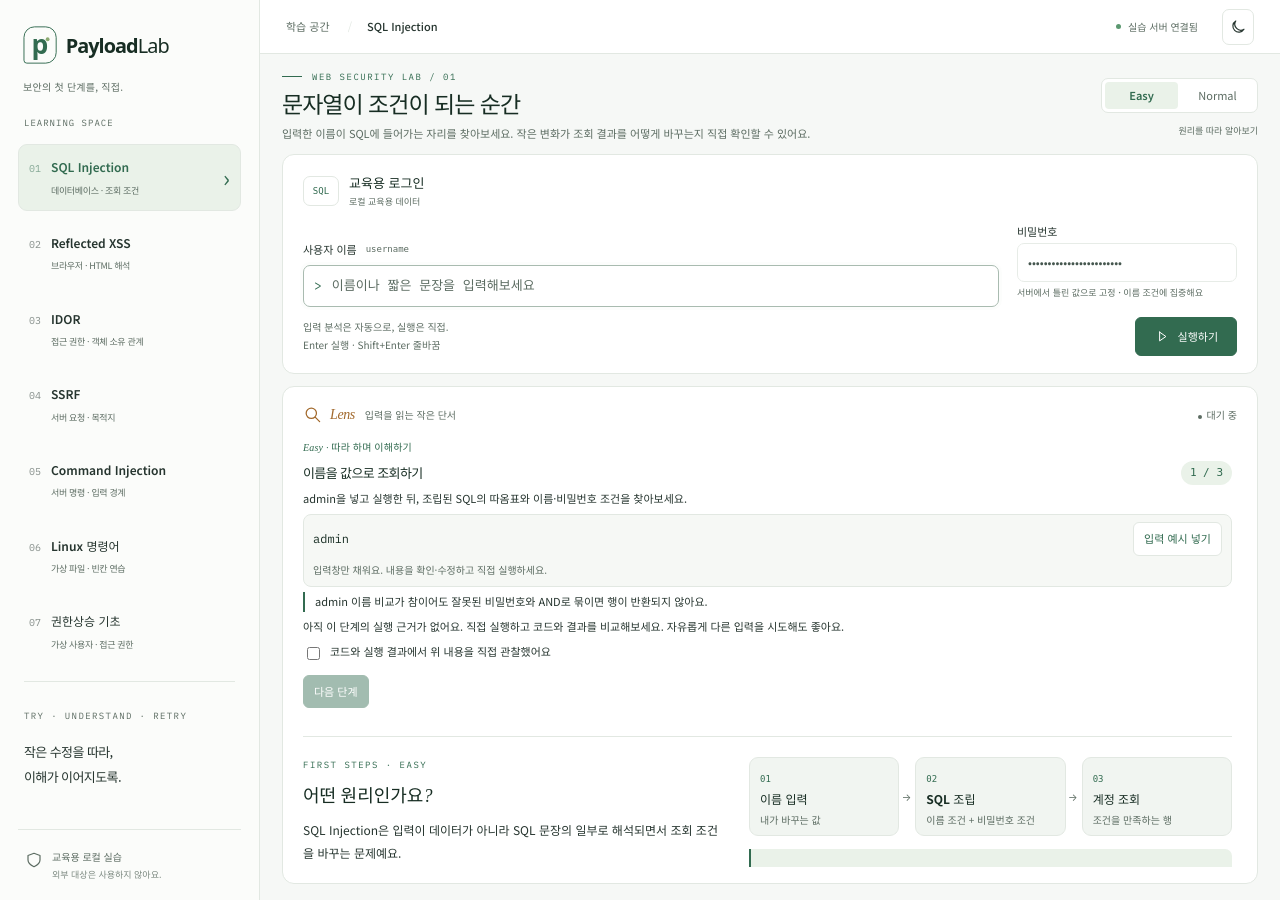
Scenario: learning workspace › rejects a late response after switching labs
The image size is (1280, 900).
Expected: the button "실행하기" is enabled, [1134,317,1237,356]
In the text box labelled "사용자 이름": (660, 286) [332,274,988,298], type "abc"
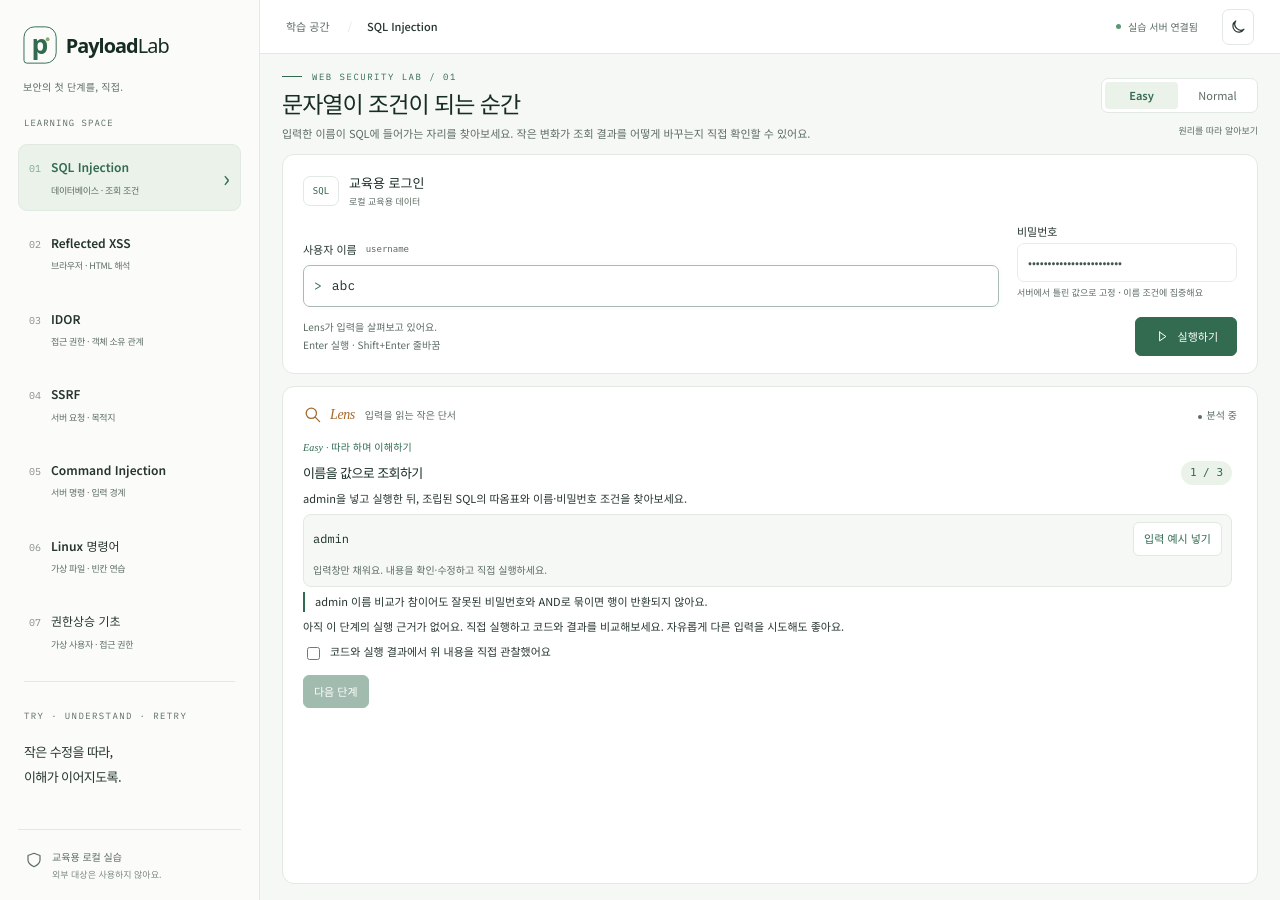
Click the button "실행하기": click(1186, 336) [1134,317,1237,356]
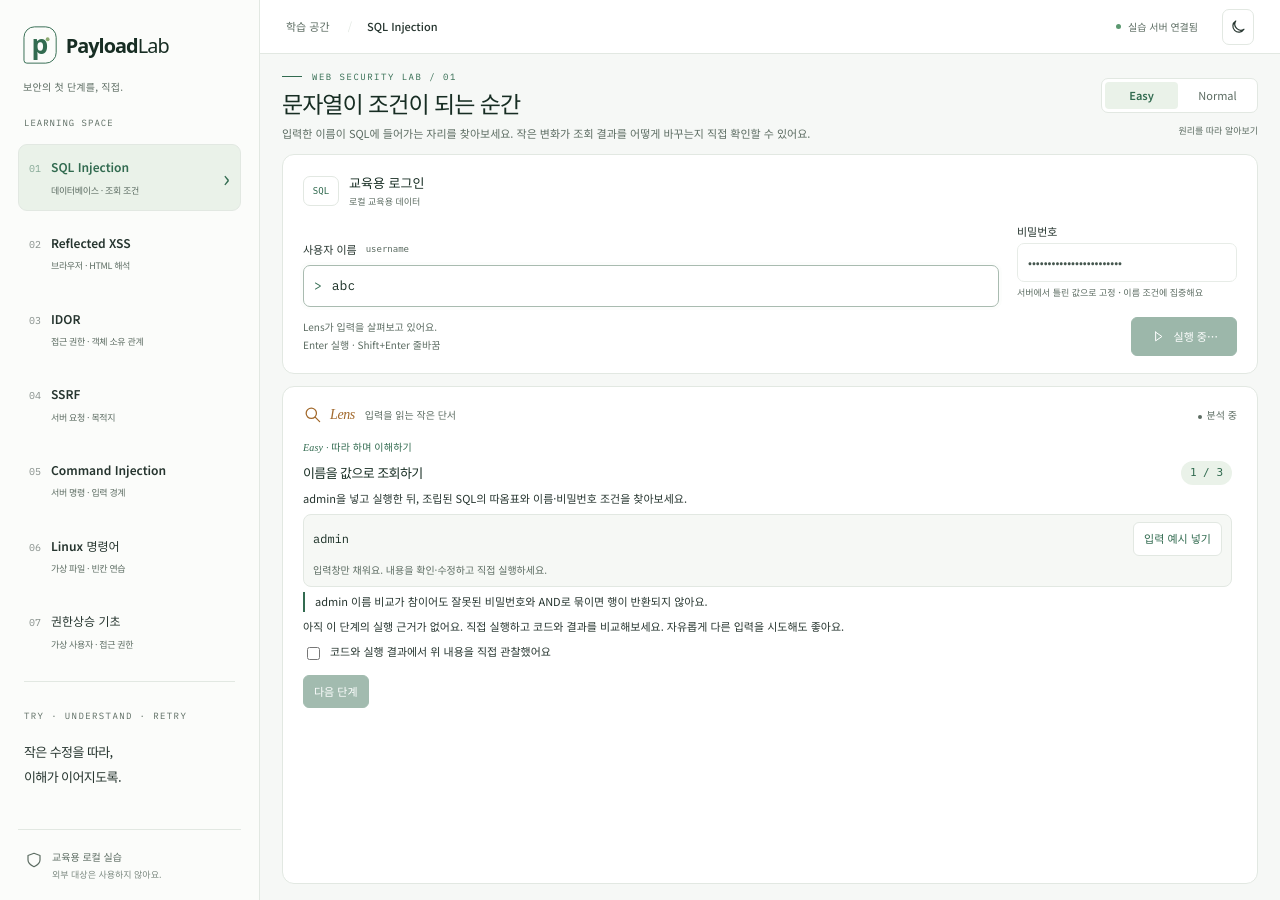
Click the button "02 Reflected XSS 브라우저 · HTML 해석": click(130, 253) [18,220,241,287]
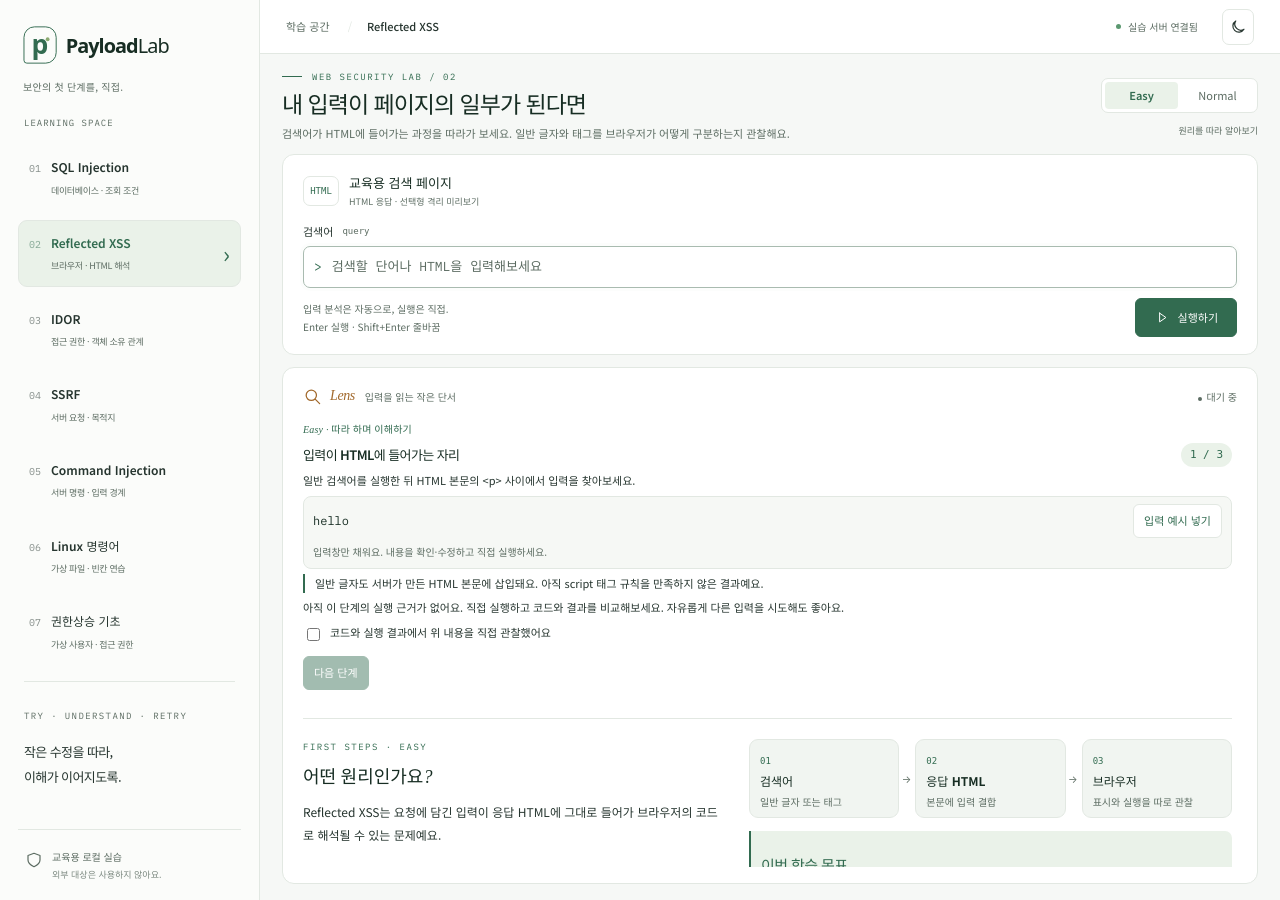
Expected: the text box labelled "검색어" is shown, [332,256,1226,280]
